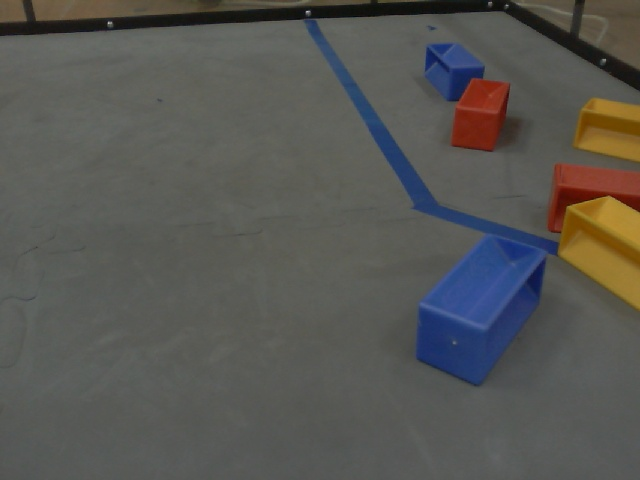BlueSample: (410, 222, 548, 388), (423, 41, 486, 104)
RedSample: (544, 163, 640, 231), (447, 75, 514, 154)
YellowSample: (556, 194, 640, 310), (568, 93, 640, 162)
